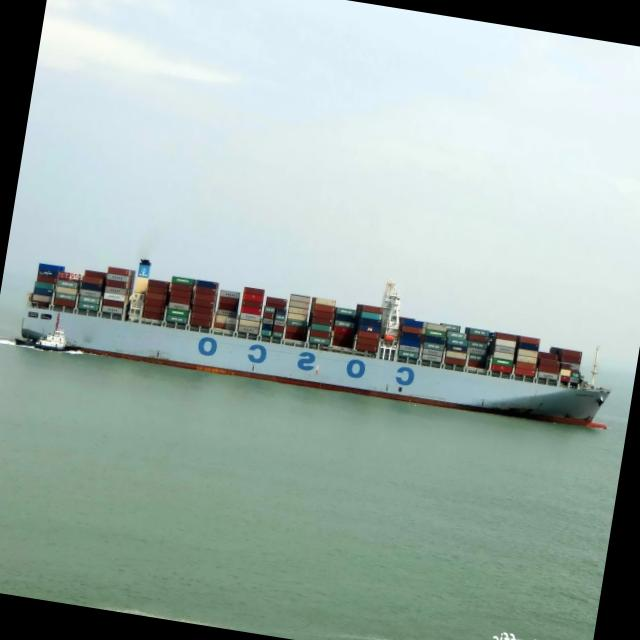Cargo: (22, 260, 610, 424)
Tug: (19, 318, 82, 354)
